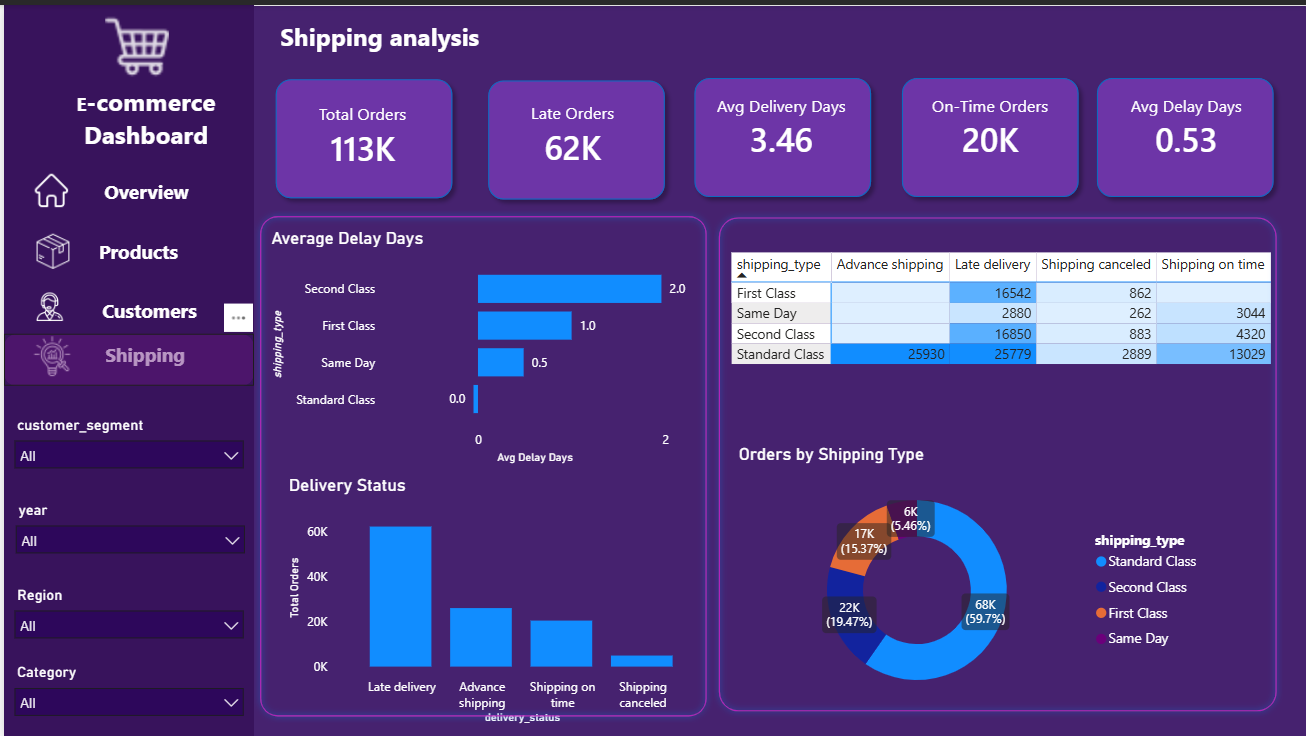

The dashboard page shown, as its layout file describes it:
{"tool":"powerbi","page":{"name":"Page 4","canvas":[1280,720],"ordinal":3},"visuals":[{"type":"shape","box":[0,0,245.4,720.2],"z":0},{"type":"slicer","fields":{"Values":["e_commerce.category_name"]},"box":[0,641.7,245.4,62.6],"z":1000},{"type":"slicer","fields":{"Values":["e_commerce.customer_region"]},"box":[0,565.6,245.4,62.6],"z":2000},{"type":"slicer","fields":{"Values":["calender.year"]},"box":[1.2,482.2,245.4,62.6],"z":3000},{"type":"slicer","fields":{"Values":["e_commerce.customer_segment"]},"box":[0,398.8,245.4,62.6],"z":4000},{"type":"textbox","box":[43.9,74.1,190.7,91.9],"z":5000},{"type":"image","box":[24.8,325.2,45.4,39.3],"z":5000,"group":"g1"},{"type":"shape","box":[257.7,63.8,191.4,135],"z":6000},{"type":"image","box":[20.8,282.3,47.9,28.2],"z":6000,"group":"g3"},{"type":"shape","box":[872.7,63.1,191.4,135],"z":7000},{"type":"image","box":[22,224.6,51.5,34.4],"z":7000,"group":"g4"},{"type":"shape","box":[466.6,64.5,191.4,135],"z":8000},{"type":"image","box":[24.5,165.6,44.2,33.1],"z":8000,"group":"g2"},{"type":"shape","box":[668.3,63.1,191.4,135],"z":9000},{"type":"textbox","box":[86.1,325.2,105.5,39.3],"z":9000,"group":"g1"},{"type":"shape","box":[1063.5,63.1,191.4,135],"z":10000},{"type":"textbox","box":[80.9,282.7,123.5,37],"z":10000,"group":"g3"},{"type":"cardVisual","fields":{"Data":["measure Table.Total Orders"]},"box":[242.9,59,218.4,139.9],"z":11000},{"type":"textbox","box":[57.6,224.6,148.5,36.8],"z":11000,"group":"g4"},{"type":"cardVisual","fields":{"Data":["measure Table.Late Orders"]},"box":[448.7,57.6,218.4,139.9],"z":12000},{"type":"textbox","box":[68.7,165.6,142.3,40.5],"z":12000,"group":"g2"},{"type":"cardVisual","fields":{"Data":["measure Table.Avg Delivery Days"]},"box":[654.5,50.8,218.4,139.9],"z":13000},{"type":"cardVisual","fields":{"Data":["measure Table.On-Time Orders"]},"box":[859,50.8,218.4,139.9],"z":14000},{"type":"cardVisual","fields":{"Data":["measure Table.Avg Delay Days"]},"box":[1051.1,50.8,218.4,139.9],"z":15000},{"type":"donutChart","title":"Orders by Shipping Type","fields":{"Category":["e_commerce.shipping_type"],"Y":["measure Table.Total Orders"]},"box":[716.6,430.7,467.5,268.7],"z":16000},{"type":"clusteredColumnChart","title":"Delivery Status","fields":{"Category":["e_commerce.delivery_status"],"Y":["measure Table.Total Orders"]},"box":[274.8,461.4,420.9,249.1],"z":17000},{"type":"pivotTable","title":"Orders by Shipping Type","fields":{"Rows":["e_commerce.shipping_type"],"Columns":["e_commerce.delivery_status"],"Values":["measure Table.Orders"]},"box":[709.2,238,546,198.8],"z":18000},{"type":"clusteredBarChart","title":"Average Delay Days","fields":{"Category":["e_commerce.shipping_type"],"Y":["measure Table.Avg Delay Days"]},"box":[257.7,218.4,420.9,236.8],"z":19000},{"type":"shape","box":[245.4,201.2,450.3,503.1],"z":20000},{"type":"shape","box":[695.7,202.5,559.5,496.9],"z":21000},{"type":"textbox","box":[266.3,9.8,219.6,52.8],"z":22000},{"type":"image","box":[81,9.8,99.4,62.6],"z":23000},{"type":"group","id":"g1","title":"Group 2","box":[12.3,325.2,234.4,45.4],"z":24000},{"type":"group","id":"g2","title":"Group 1","box":[0,157.9,245.4,51.5],"z":25000},{"type":"group","id":"g3","title":"Group 3","box":[4.7,274.8,240.5,47.9],"z":26000},{"type":"group","id":"g4","title":"Group 4","box":[0.9,211.8,240.5,54],"z":27000},{"type":"shape","box":[0,322.7,245.4,51.5],"z":28000},{"type":"actionButton","box":[4.7,274.8,240.5,47.9],"z":31004,"group":"g3"},{"type":"actionButton","box":[0,157.9,245.4,51.5],"z":33002,"group":"g2"},{"type":"actionButton","box":[12.3,328,234.4,42.9],"z":33003,"group":"g1"},{"type":"actionButton","box":[0.9,211.8,240.5,54],"z":33005,"group":"g4"}]}

Visuals, with their boxes on the page's 1280x720 design canvas (x1, y1, x2, y2). These are canvas units, not pixel positions in the 1306x736 screenshot, which may show the page scaled, cropped or inside an application window:
shape: 0,0,245,720
slicer - e_commerce.category_name: 0,642,245,704
slicer - e_commerce.customer_region: 0,566,245,628
slicer - calender.year: 1,482,247,545
slicer - e_commerce.customer_segment: 0,399,245,461
textbox: 44,74,235,166
image: 25,325,70,364
shape: 258,64,449,199
image: 21,282,69,310
shape: 873,63,1064,198
image: 22,225,74,259
shape: 467,64,658,200
image: 24,166,69,199
shape: 668,63,860,198
textbox: 86,325,192,364
shape: 1064,63,1255,198
textbox: 81,283,204,320
cardVisual - measure Table.Total Orders: 243,59,461,199
textbox: 58,225,206,261
cardVisual - measure Table.Late Orders: 449,58,667,198
textbox: 69,166,211,206
cardVisual - measure Table.Avg Delivery Days: 654,51,873,191
cardVisual - measure Table.On-Time Orders: 859,51,1077,191
cardVisual - measure Table.Avg Delay Days: 1051,51,1270,191
"Orders by Shipping Type" donutChart: 717,431,1184,699
"Delivery Status" clusteredColumnChart: 275,461,696,710
"Orders by Shipping Type" pivotTable: 709,238,1255,437
"Average Delay Days" clusteredBarChart: 258,218,679,455
shape: 245,201,696,704
shape: 696,202,1255,699
textbox: 266,10,486,63
image: 81,10,180,72
"Group 2" group: 12,325,247,371
"Group 1" group: 0,158,245,209
"Group 3" group: 5,275,245,323
"Group 4" group: 1,212,241,266
shape: 0,323,245,374
actionButton: 5,275,245,323
actionButton: 0,158,245,209
actionButton: 12,328,247,371
actionButton: 1,212,241,266
